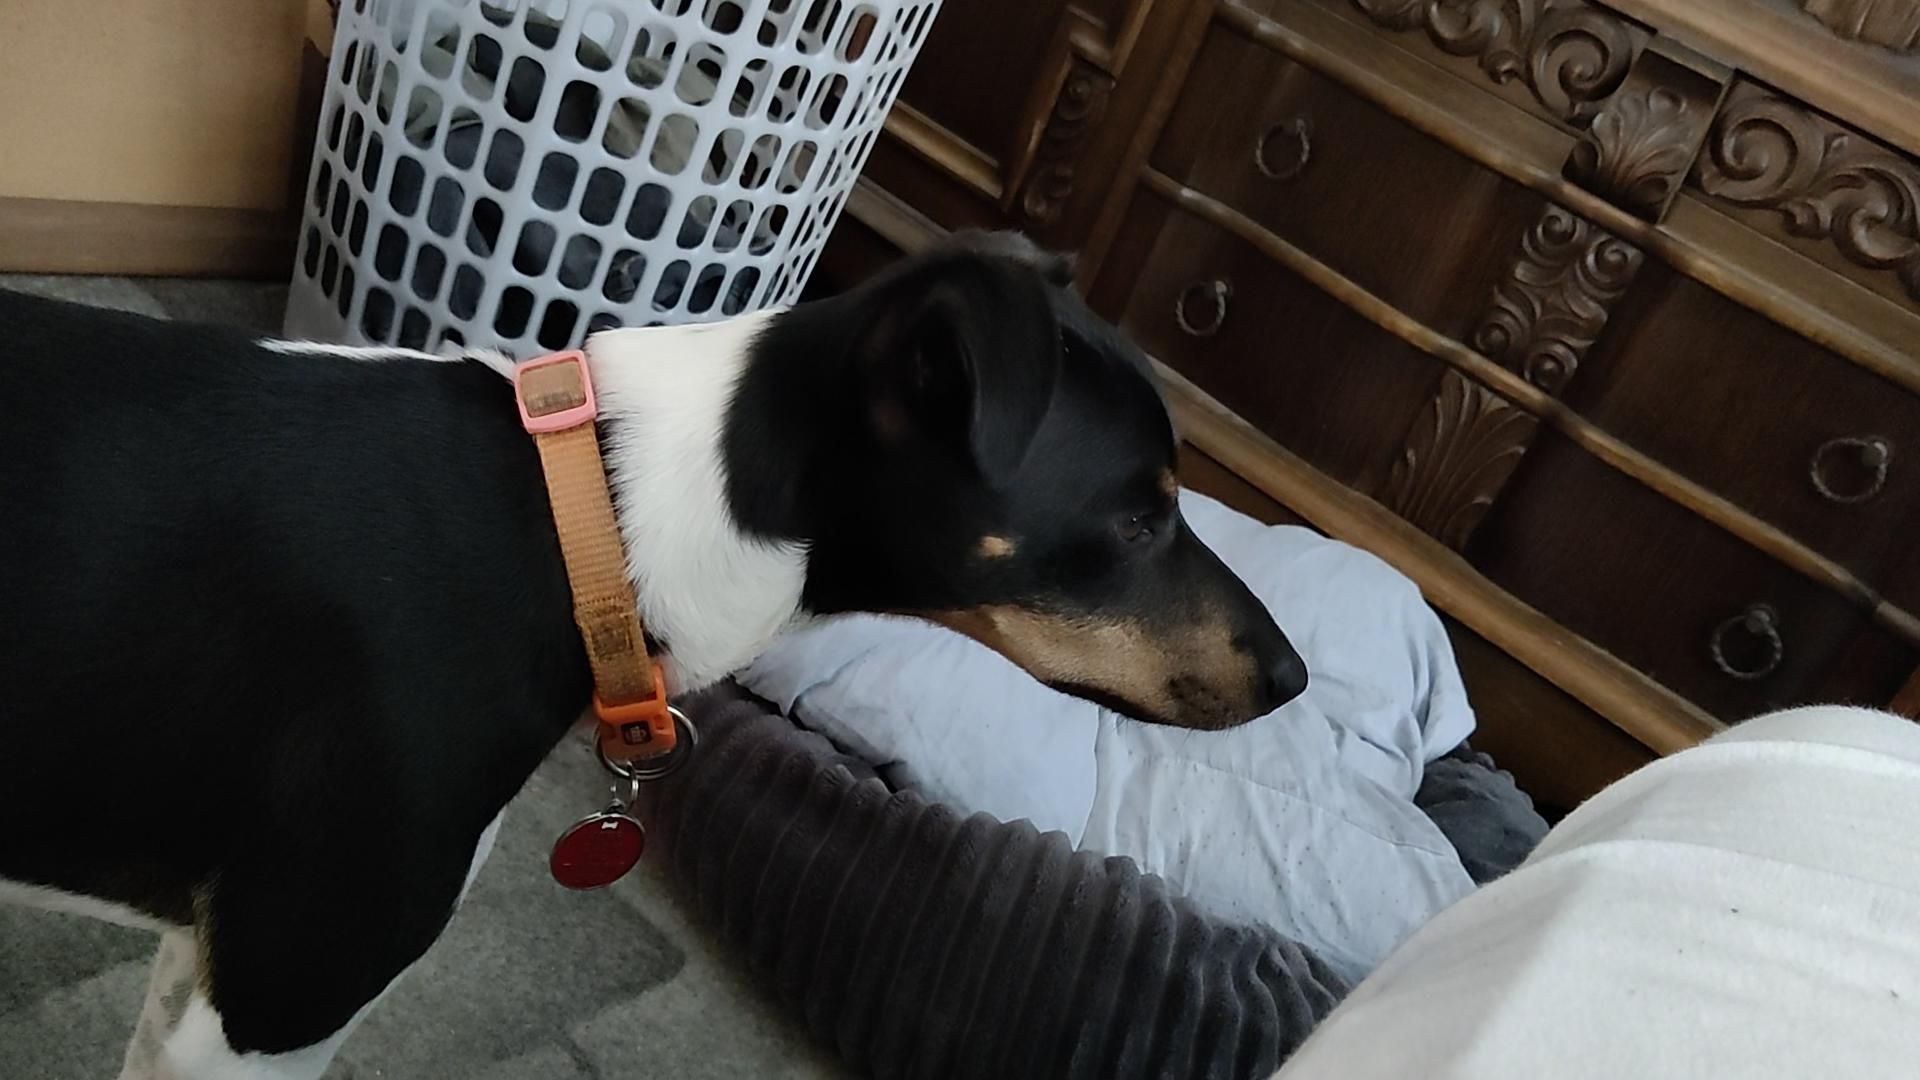Dog: (0, 219, 1315, 1079)
